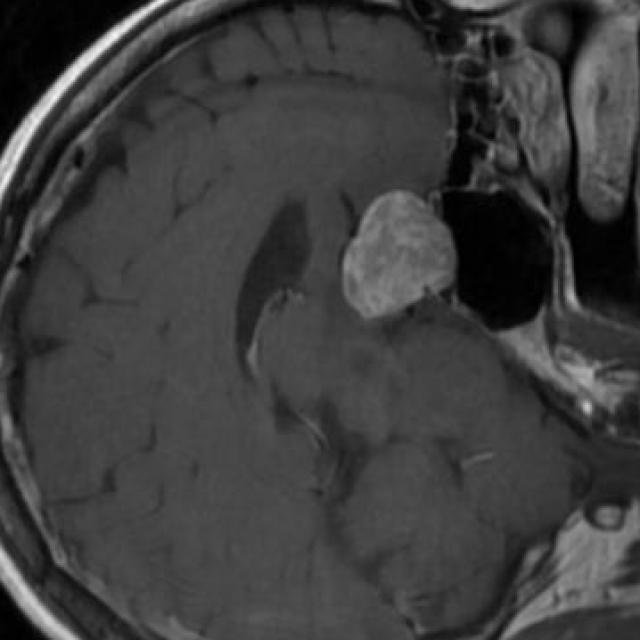pituitary: (346, 191, 458, 319)
